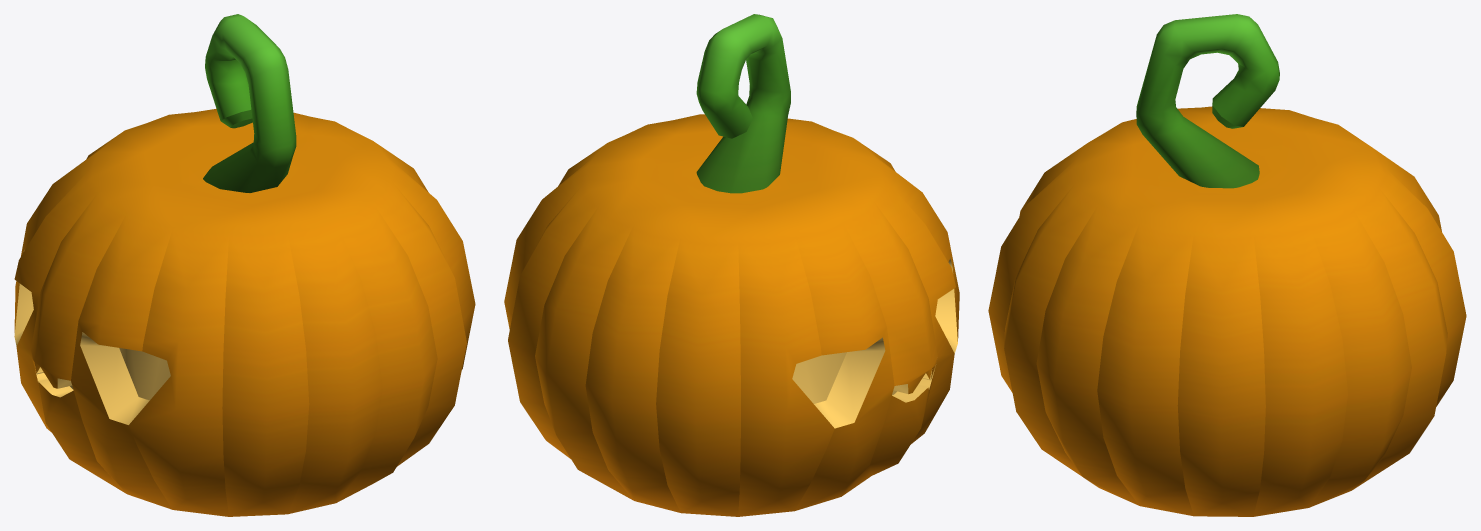
Rendered from Pumpkin_2.obj.
The picture shows the model from 3 angles, left to right: view 1: azimuth 30°, elevation 25°; view 2: azimuth 150°, elevation 25°; view 3: azimuth 270°, elevation 25°; orthographic projection. The views are drawn at different scales.
Parts seen in each view (by area): view 1: Pumpkin_2; view 2: Pumpkin_2; view 3: Pumpkin_2.
Part boxes in pixels (bbox=[...]): Pumpkin_2: bbox=[14, 14, 475, 516]; Pumpkin_2: bbox=[504, 14, 959, 516]; Pumpkin_2: bbox=[988, 14, 1466, 516].
Size of the model in its own units: 0.5353 by 0.5591 by 0.5386.
